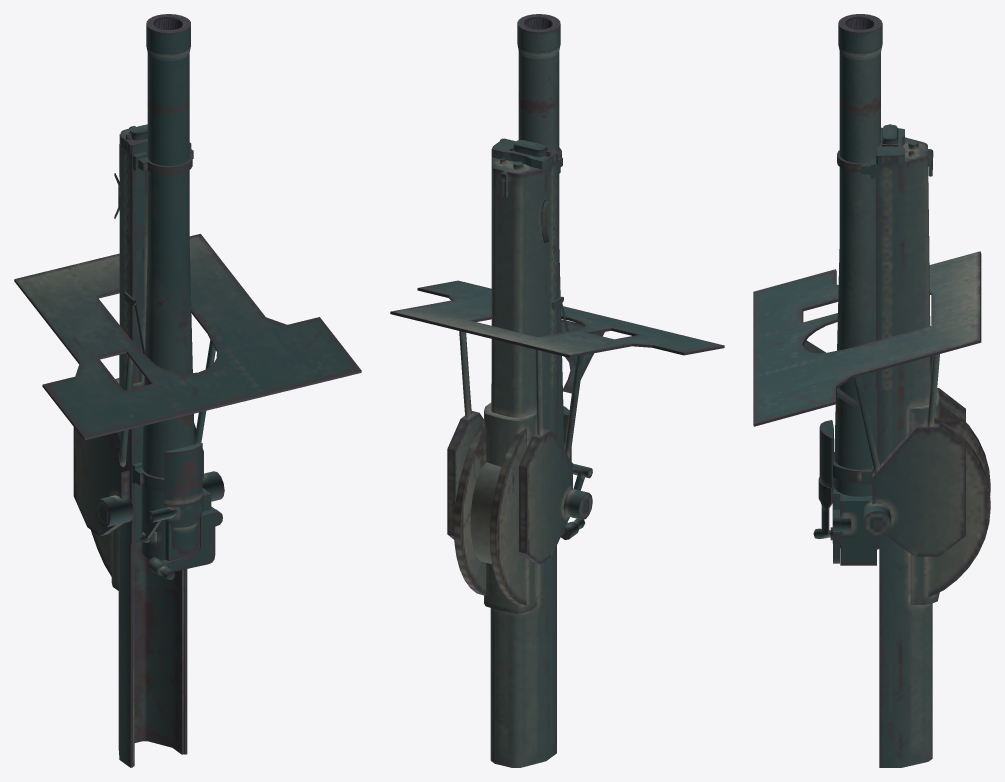
File: Gun_01.glb
3 renders of one model, left to right at view 1: azimuth 30°, elevation 25°; view 2: azimuth 150°, elevation 25°; view 3: azimuth 270°, elevation 25°, orthographic. The views are drawn at different scales.
Parts seen in each view (by area): view 1: set_0_group_0; view 2: set_0_group_0; view 3: set_0_group_0.
Part boxes in pixels (left/top/right/bottom): set_0_group_0: left=14, top=14, right=361, bottom=767; set_0_group_0: left=390, top=14, right=724, bottom=767; set_0_group_0: left=753, top=14, right=990, bottom=767.
Bounding box in the file's own units: 1.17 × 3 × 0.8828.
1 material, 1 textured.
